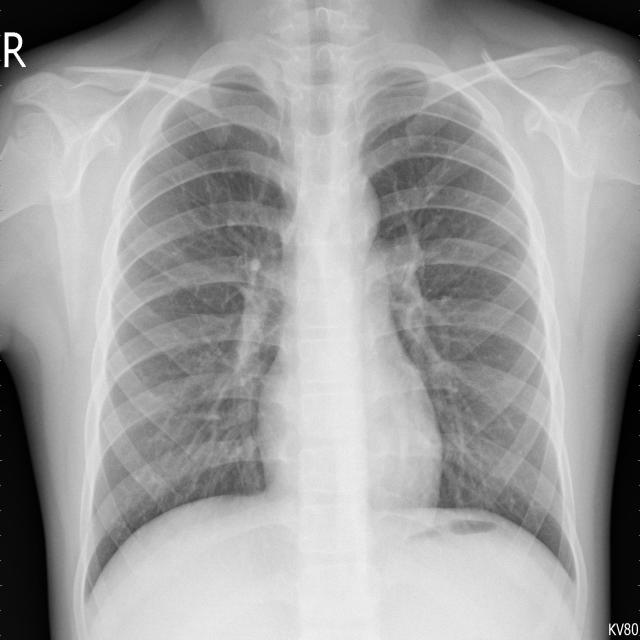no-pneumonia: (361, 67, 575, 577), (87, 67, 295, 591)
